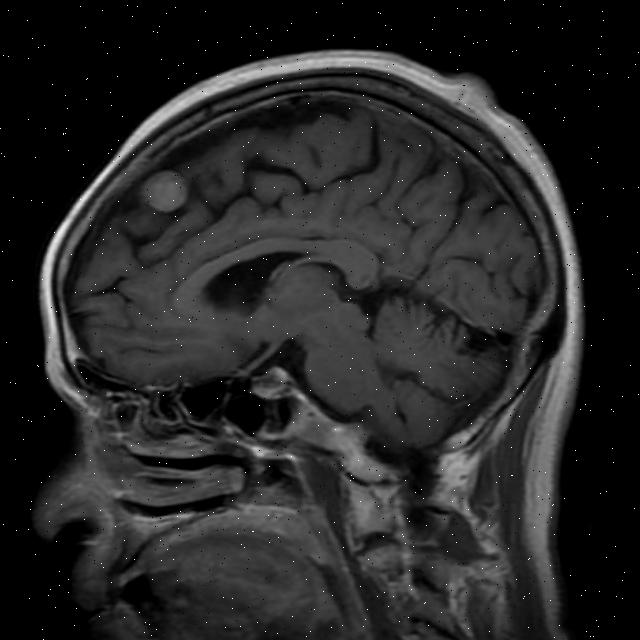Meningioma: (139, 166, 191, 215)
Pituitary: (246, 362, 294, 403)
